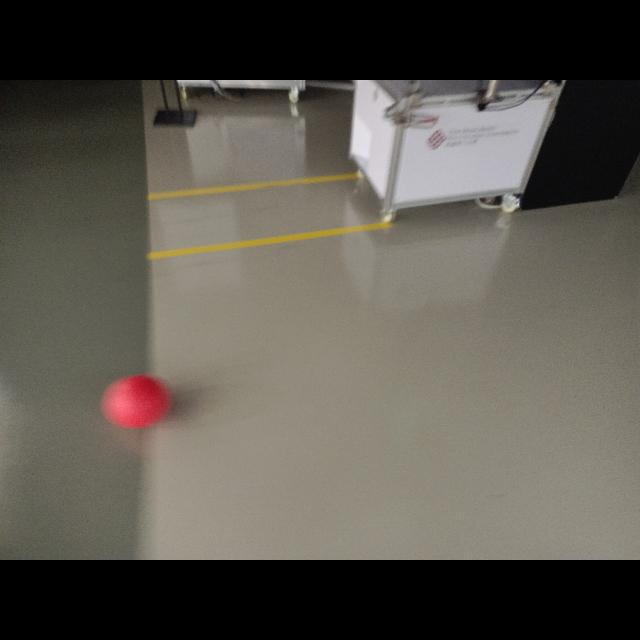R: (100, 374, 172, 428)
